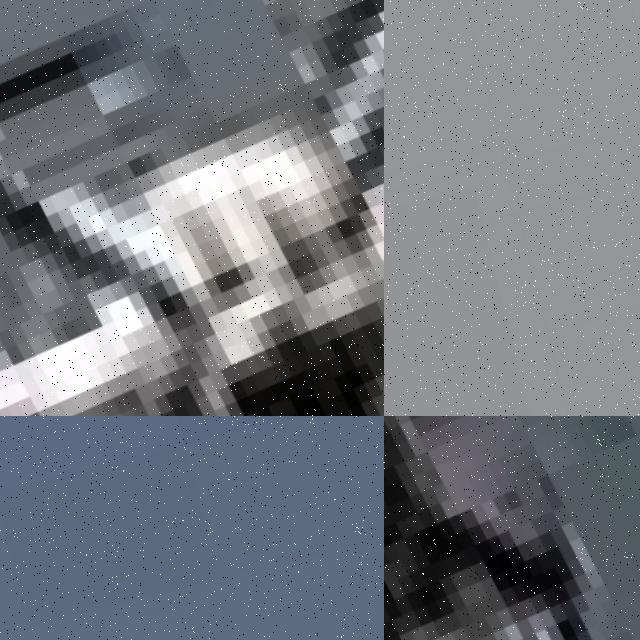drone: (0, 0, 384, 416), (384, 416, 640, 640)
